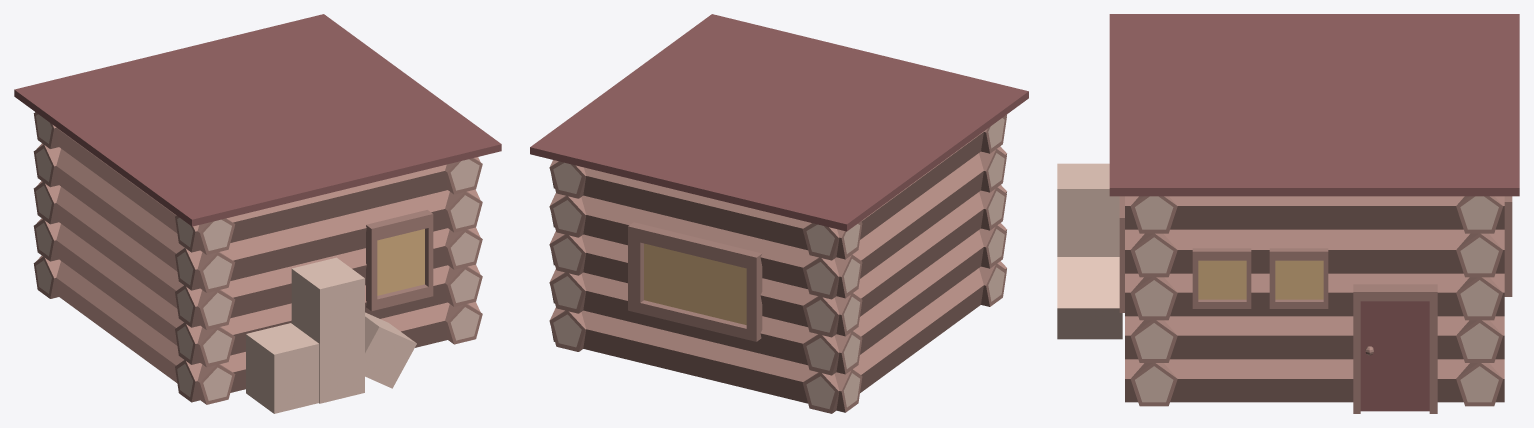
The model's file is house_and_boxes.fbx.
3 renders of one model, left to right at view 1: azimuth 30°, elevation 25°; view 2: azimuth 150°, elevation 25°; view 3: azimuth 270°, elevation 25°, orthographic. The views are drawn at different scales.
Parts seen in each view (by area): view 1: pCube12, pasted__pCylinder41, pasted__pCylinder39, pCube1, pasted__pCylinder32, pasted__pCylinder29, pasted__pCylinder30, pasted__pCylinder31, pCube8, pCube10, pasted__pCylinder42, pCube9 (+14 smaller); view 2: pCube12, pCube4, pasted__pCylinder45, pasted__pCylinder44, pasted__pCylinder46, pasted__pCylinder32, pasted__pCylinder48, pasted__pCylinder29, pasted__pCylinder30, pasted__pCylinder31, pasted__pCylinder47, pasted__pCylinder33 (+10 smaller); view 3: pCube12, pasted__pCylinder37, pCube6, pasted__pCylinder38, pasted__pCylinder34, pasted__pCylinder35, pasted__pCylinder36, pCube11, pCube10, pCube2, pCube5, pasted__pCylinder41 (+12 smaller).
Part boxes in pixels (left/top/right/bottom): pCube12: left=14, top=14, right=501, bottom=226; pasted__pCylinder41: left=175, top=189, right=480, bottom=290; pasted__pCylinder39: left=175, top=157, right=480, bottom=252; pCube1: left=366, top=210, right=433, bottom=311; pasted__pCylinder32: left=37, top=143, right=235, bottom=292; pasted__pCylinder29: left=36, top=255, right=235, bottom=404; pasted__pCylinder30: left=37, top=218, right=234, bottom=367; pasted__pCylinder31: left=36, top=181, right=235, bottom=329; pCube8: left=246, top=323, right=319, bottom=413; pCube10: left=291, top=257, right=364, bottom=335; pasted__pCylinder42: left=175, top=227, right=480, bottom=327; pCube9: left=291, top=309, right=364, bottom=403; pCube12: left=530, top=14, right=1028, bottom=231; pCube4: left=628, top=222, right=762, bottom=341; pasted__pCylinder45: left=550, top=307, right=862, bottom=412; pasted__pCylinder44: left=550, top=160, right=862, bottom=259; pasted__pCylinder46: left=550, top=193, right=862, bottom=298; pasted__pCylinder32: left=802, top=146, right=1006, bottom=299; pasted__pCylinder48: left=550, top=269, right=862, bottom=374; pasted__pCylinder29: left=802, top=261, right=1006, bottom=413; pasted__pCylinder30: left=802, top=223, right=1006, bottom=375; pasted__pCylinder31: left=802, top=185, right=1006, bottom=337; pasted__pCylinder47: left=550, top=231, right=862, bottom=336; pasted__pCylinder33: left=802, top=114, right=1006, bottom=260; pCube12: left=1109, top=14, right=1519, bottom=196; pasted__pCylinder37: left=1125, top=229, right=1504, bottom=273; pCube6: left=1353, top=284, right=1437, bottom=413; pasted__pCylinder38: left=1125, top=196, right=1504, bottom=229; pasted__pCylinder34: left=1125, top=359, right=1504, bottom=402; pasted__pCylinder35: left=1125, top=316, right=1504, bottom=359; pasted__pCylinder36: left=1125, top=273, right=1504, bottom=316; pCube11: left=1057, top=257, right=1122, bottom=339; pCube10: left=1057, top=163, right=1119, bottom=242; pCube2: left=1192, top=248, right=1251, bottom=308; pCube5: left=1269, top=248, right=1328, bottom=308; pasted__pCylinder41: left=1130, top=233, right=1177, bottom=277.
Bounding box in the file's own units: 13.64 × 8.32 × 15.31.
